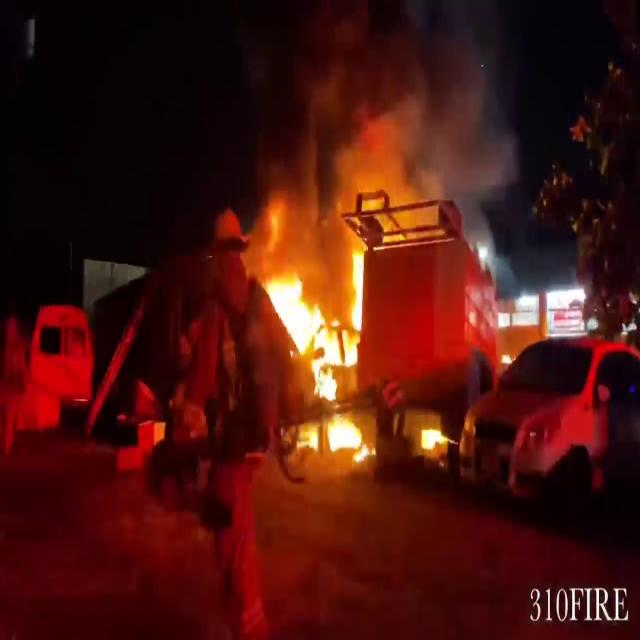fire: (258, 225, 380, 459)
smoke: (253, 0, 518, 213)
